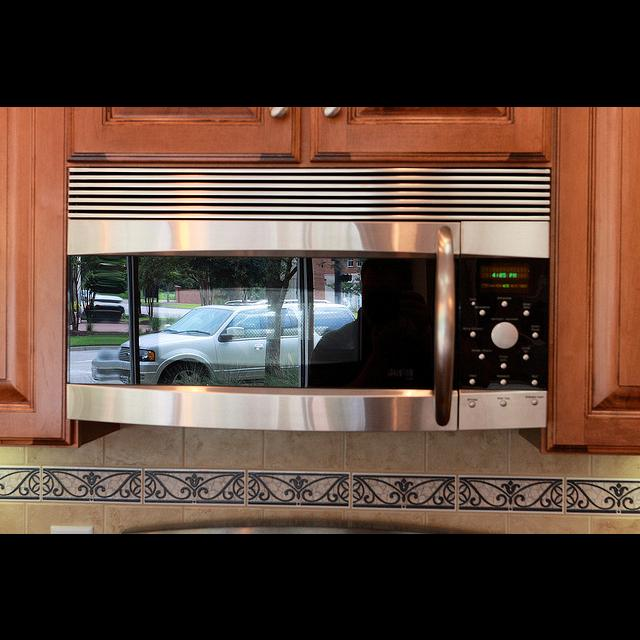Microwave: (67, 165, 551, 432)
